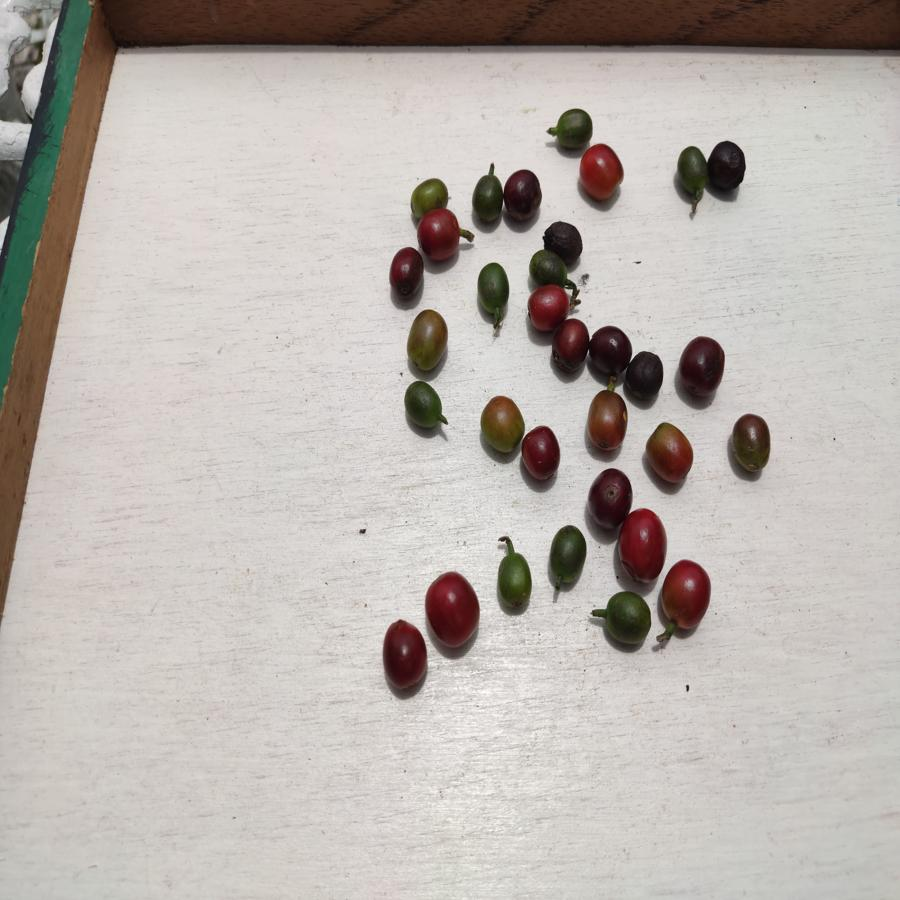Inmaduro: (602, 591, 653, 649), (546, 524, 585, 585), (495, 550, 534, 611), (401, 379, 443, 430), (476, 262, 511, 323), (468, 173, 504, 225), (676, 146, 709, 202), (554, 106, 594, 149), (527, 250, 572, 283)
Maduro: (425, 569, 479, 648), (661, 559, 711, 631), (624, 507, 667, 580), (418, 210, 462, 263), (580, 145, 622, 198), (528, 285, 568, 328)
Pinton: (644, 419, 694, 483), (406, 307, 453, 371), (585, 387, 631, 450), (479, 394, 524, 458), (731, 412, 771, 475), (408, 177, 452, 210)
Sobremaduro: (380, 621, 428, 690), (676, 336, 729, 394), (589, 467, 633, 524), (520, 426, 561, 484), (551, 320, 593, 373), (590, 324, 630, 379), (389, 245, 424, 302), (505, 169, 542, 221), (627, 349, 664, 401), (710, 140, 746, 193), (539, 218, 583, 261)
